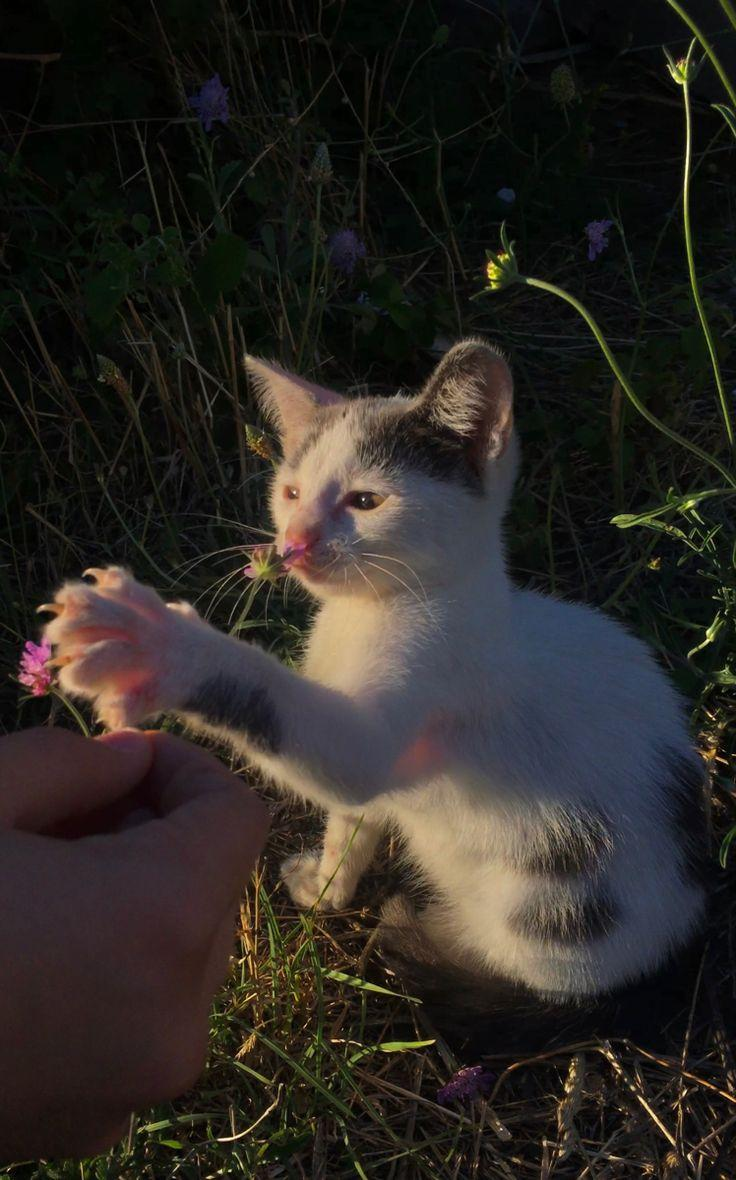kedo: (50, 340, 732, 1043)
